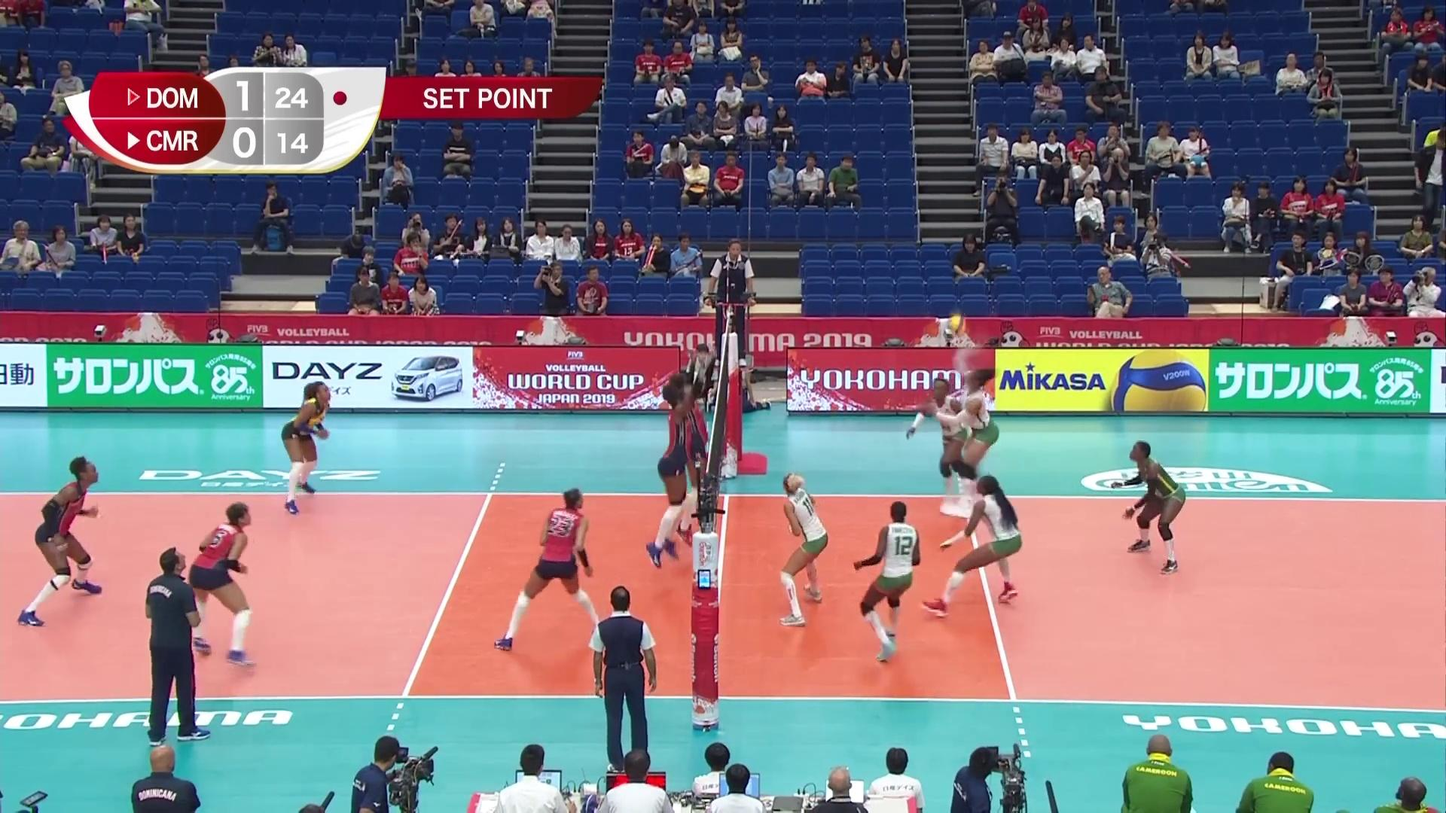player: (498, 491, 607, 654), (23, 459, 102, 628), (846, 503, 930, 661), (932, 476, 1024, 617), (185, 505, 260, 663), (650, 382, 706, 568), (941, 349, 1000, 521), (1108, 441, 1187, 569), (908, 377, 980, 517), (669, 356, 717, 550), (774, 473, 833, 626), (281, 380, 332, 514)
refree: (587, 585, 661, 769), (706, 239, 755, 369)
